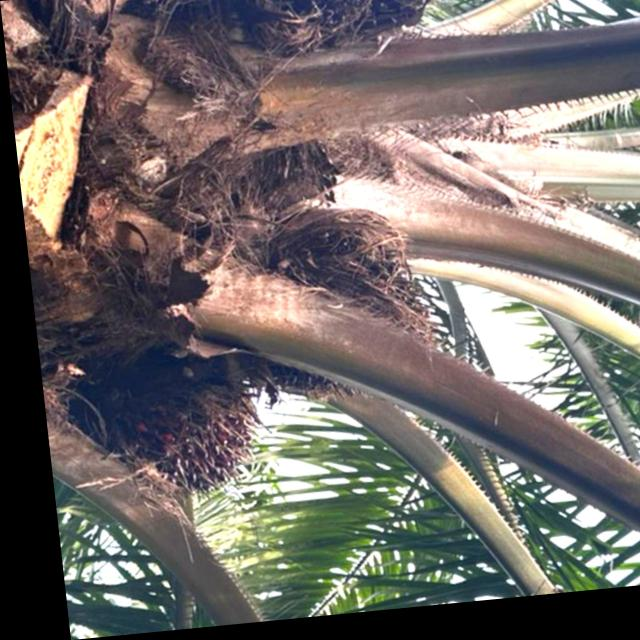unripe: (225, 194, 450, 420)
